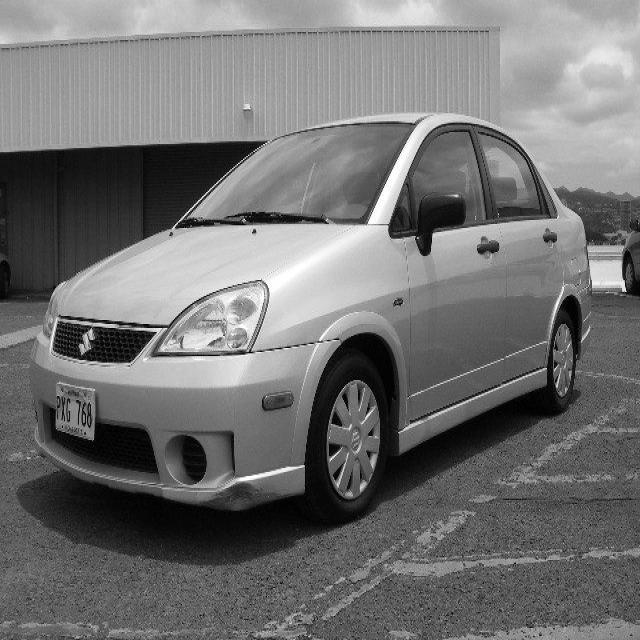car: (29, 111, 593, 524), (621, 213, 639, 295)
plat_license: (53, 382, 96, 442)
